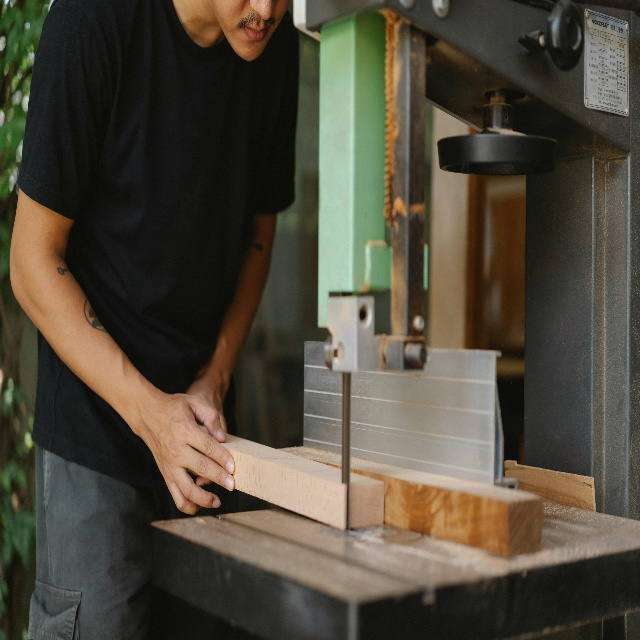Sin_guantes: (148, 392, 235, 515)
